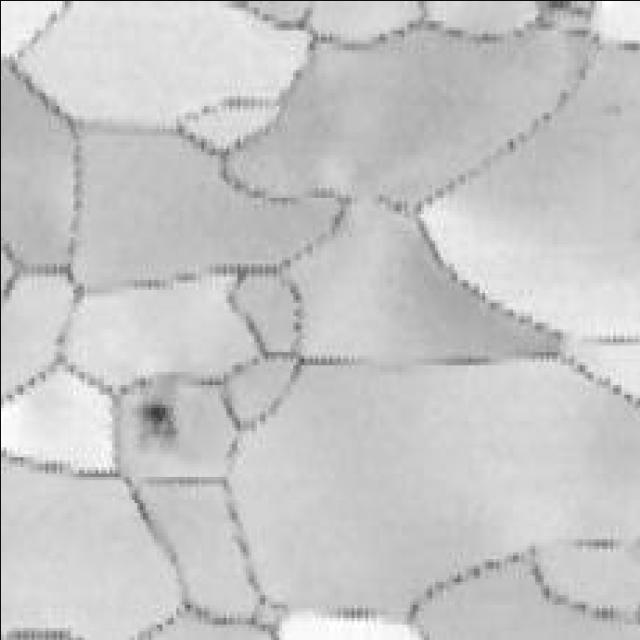good_void: (136, 392, 184, 449)
